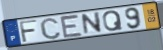9: (124, 7, 143, 30)
C: (39, 17, 63, 40)
E: (59, 14, 84, 39)
F: (18, 19, 39, 44)
N: (81, 11, 104, 36)
Q: (102, 10, 125, 33)
